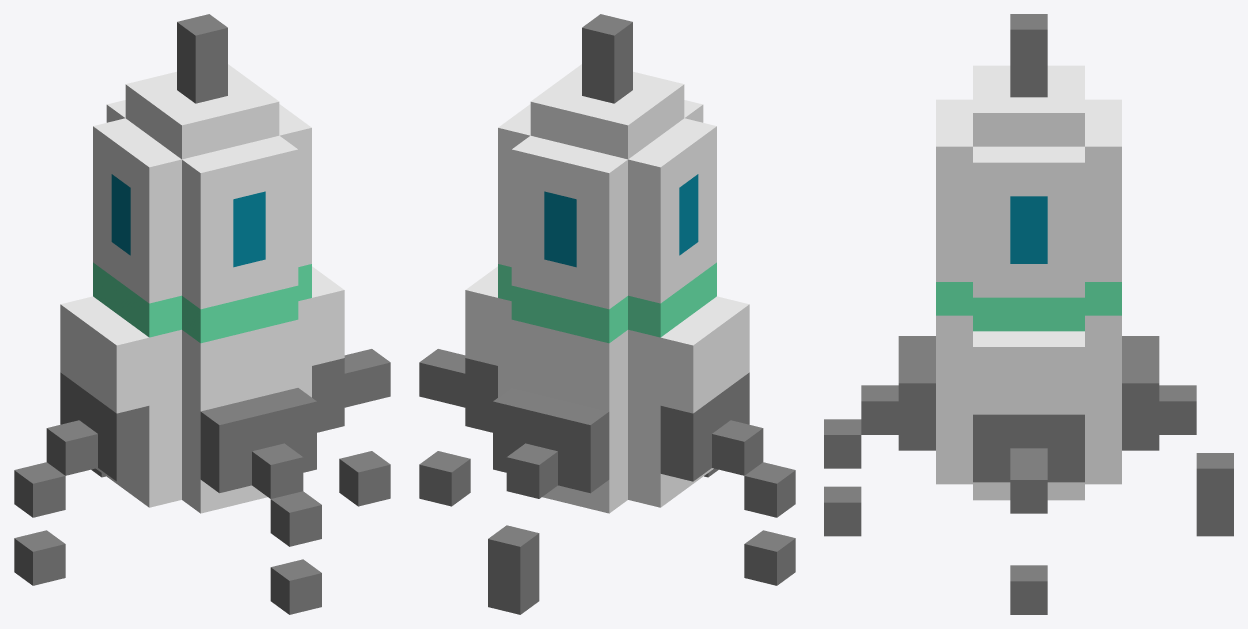
Rendered from foguete.obj.
3 renders of one model, left to right at view 1: azimuth 30°, elevation 25°; view 2: azimuth 150°, elevation 25°; view 3: azimuth 270°, elevation 25°, orthographic.
Size of the model in its own units: 1.1 by 1.5 by 1.1.
Materials: 1 (1 with a texture image).
